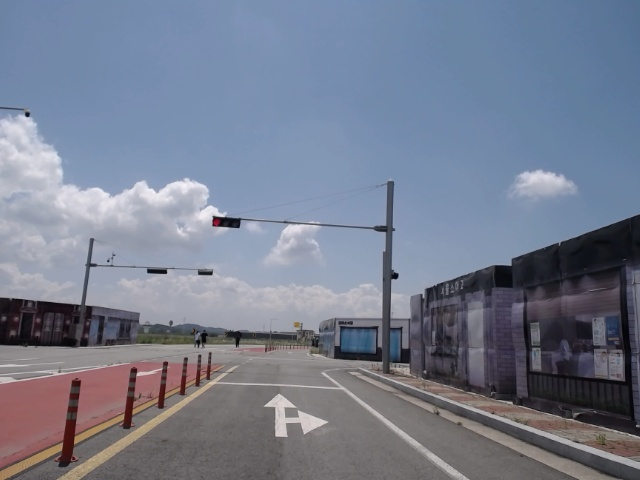red_3: (212, 216, 241, 230)
